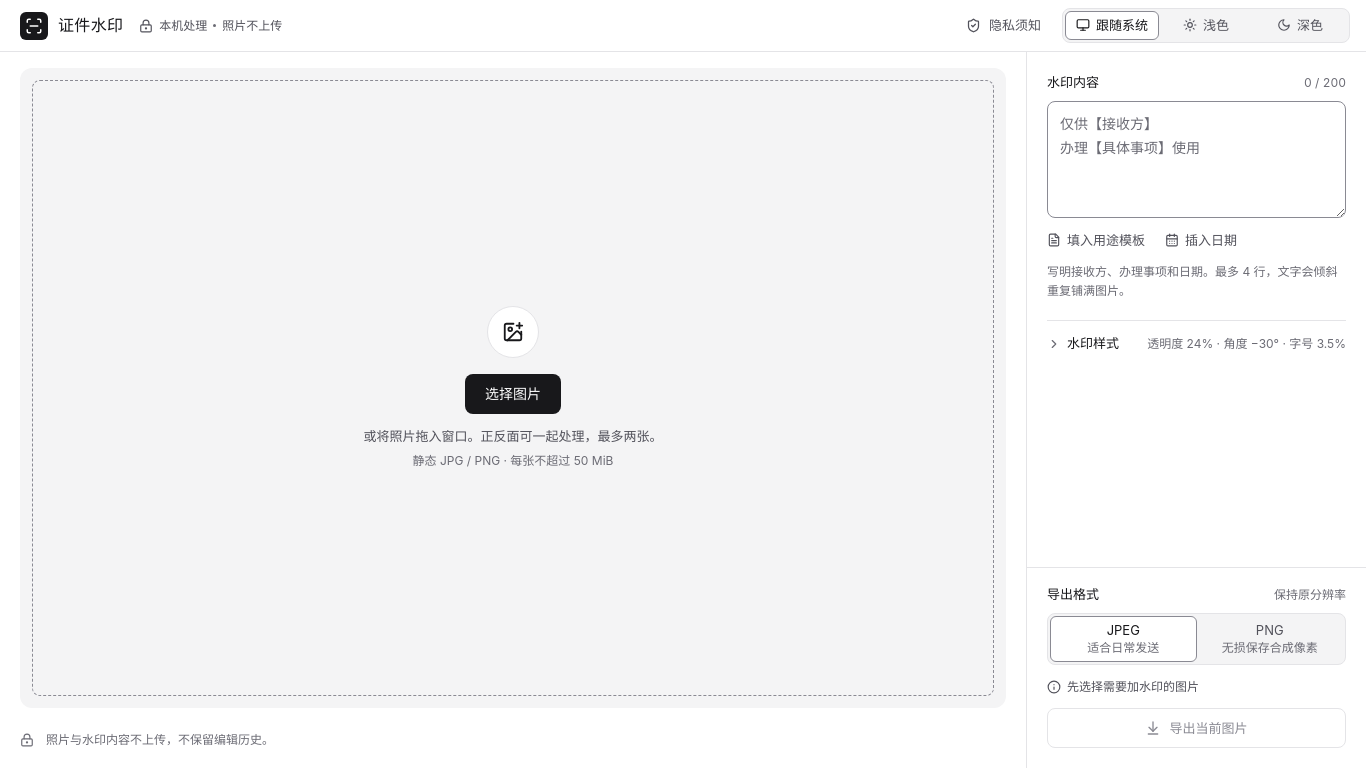
Test: the top bar holds the theme switch and opens privacy notes as a dismissable panel
Expected: the radio button labelled "跟随系统" is checked, [1065,11,1159,40]
Click the button "隐私须知" at [1003, 26], box [953,10,1054,42]
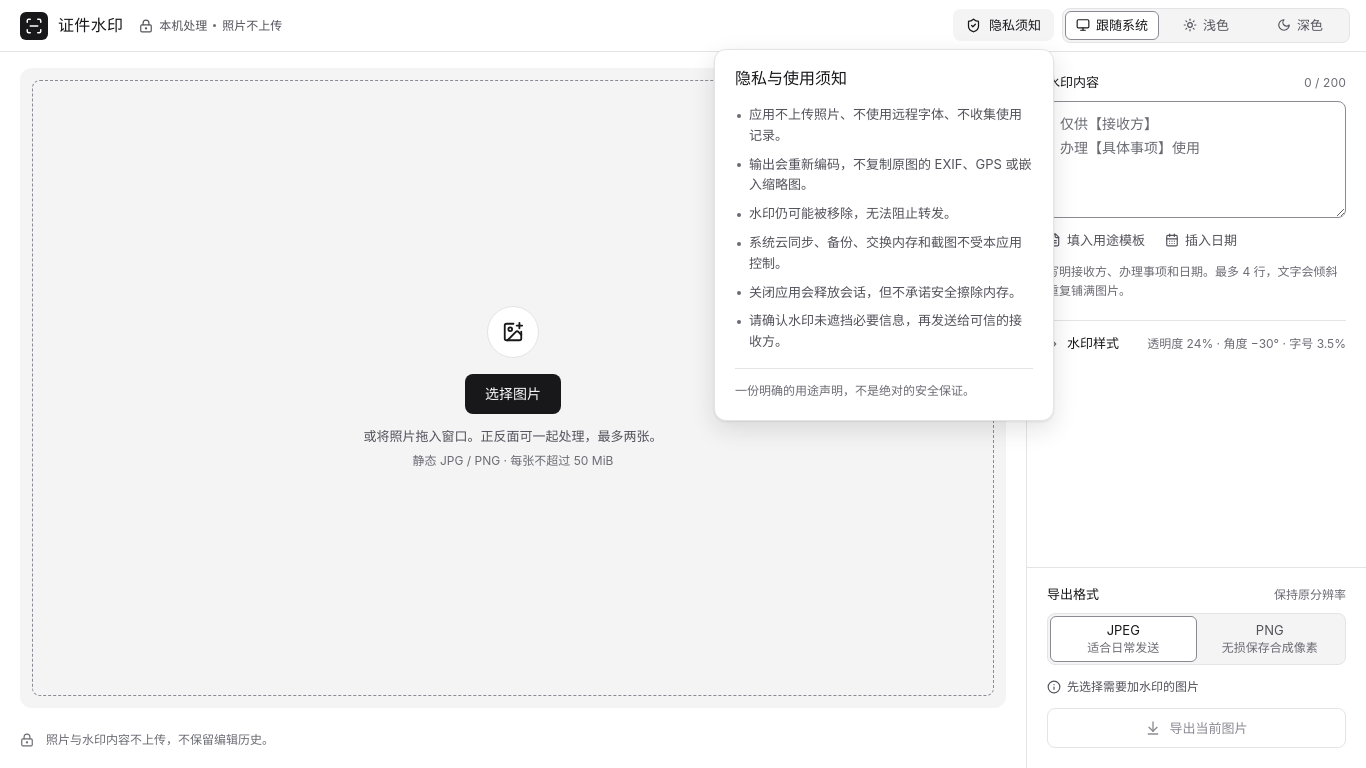
Now the text "一份明确的用途声明，不是绝对的安全保证。" is shown, box [735,368,1033,400]
Press Escape
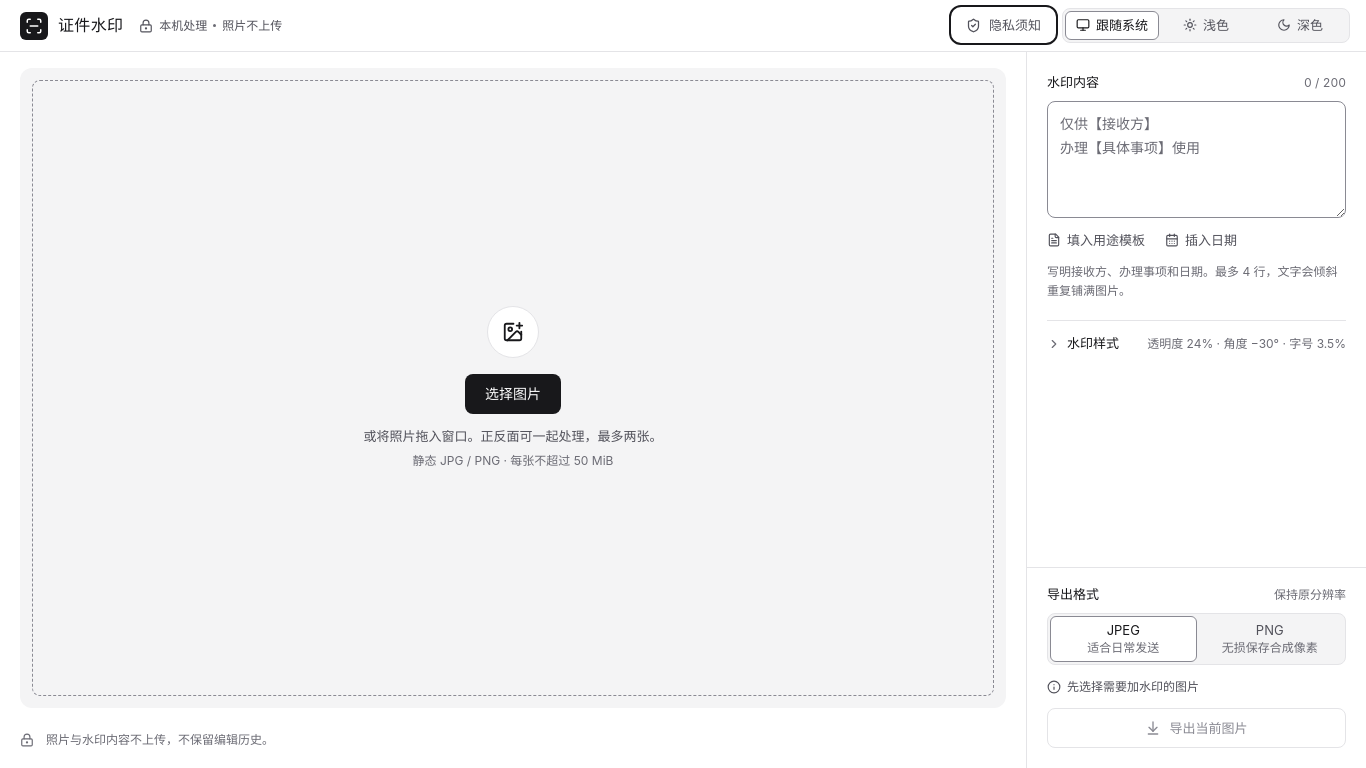
Now the dialog is gone
Click the button "隐私须知" at [1003, 26], box [953,10,1054,42]
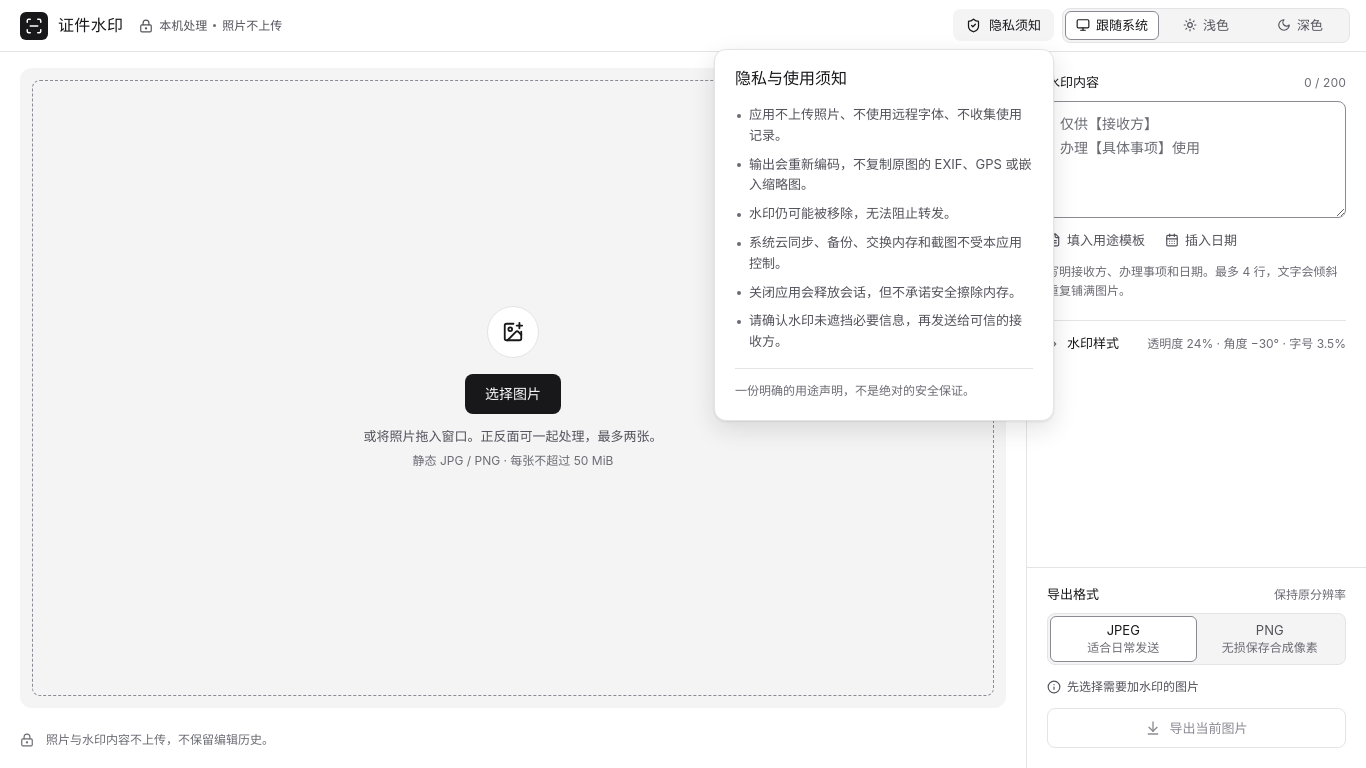
Click the heading "证件水印" at [91, 26], box [58,13,123,38]
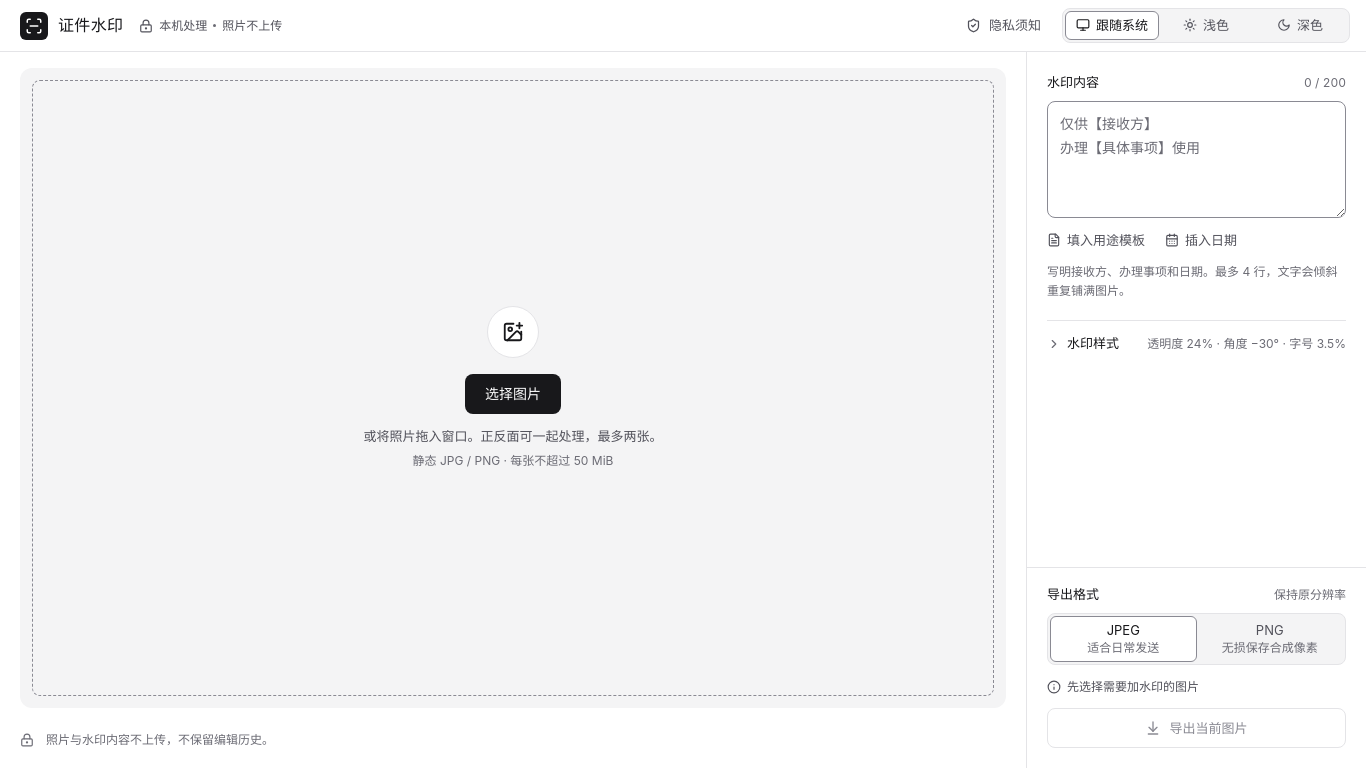
Now the dialog is gone
